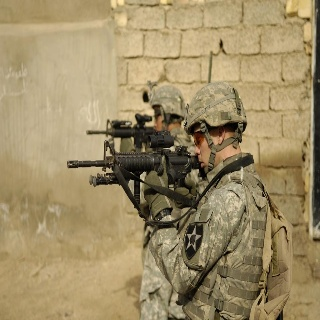rifle: (67, 130, 203, 189), (83, 113, 162, 149)
